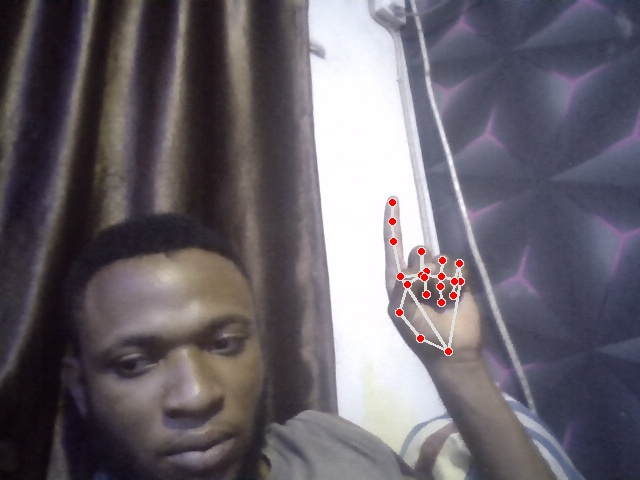number1: (385, 197, 485, 360)
